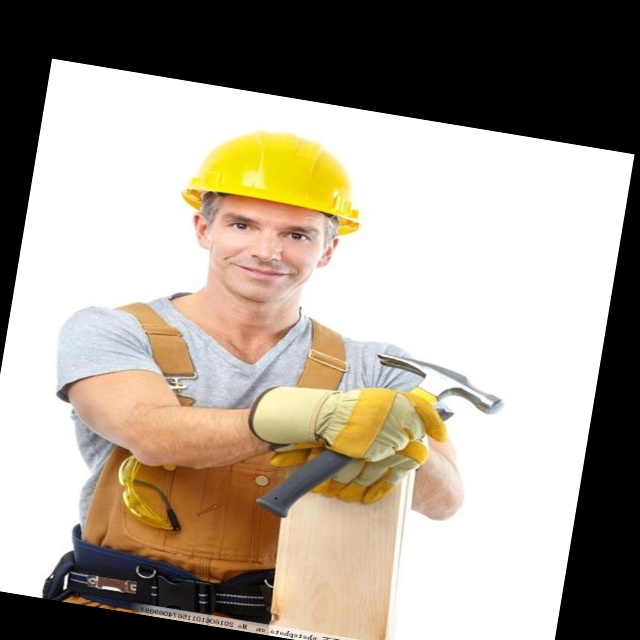Con_Casco: (166, 119, 364, 313)
